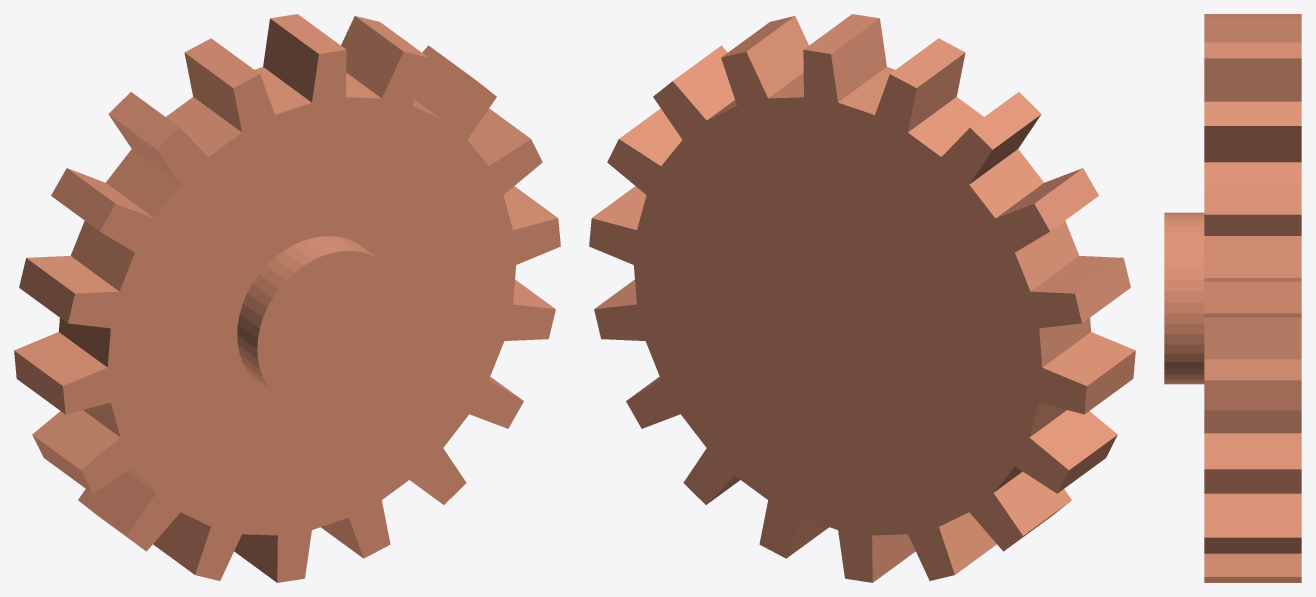
The model's file is gear.glb.
3 renders of one model, left to right at view 1: azimuth 30°, elevation 25°; view 2: azimuth 150°, elevation 25°; view 3: azimuth 270°, elevation 25°, orthographic.
Parts seen in each view (by area): view 1: gear; view 2: gear; view 3: gear.
Part boxes in pixels (bbox=[...]): gear: bbox=[14, 14, 560, 582]; gear: bbox=[589, 14, 1135, 582]; gear: bbox=[1164, 14, 1301, 582].
Size of the model in its own units: 2 by 2 by 0.48.
